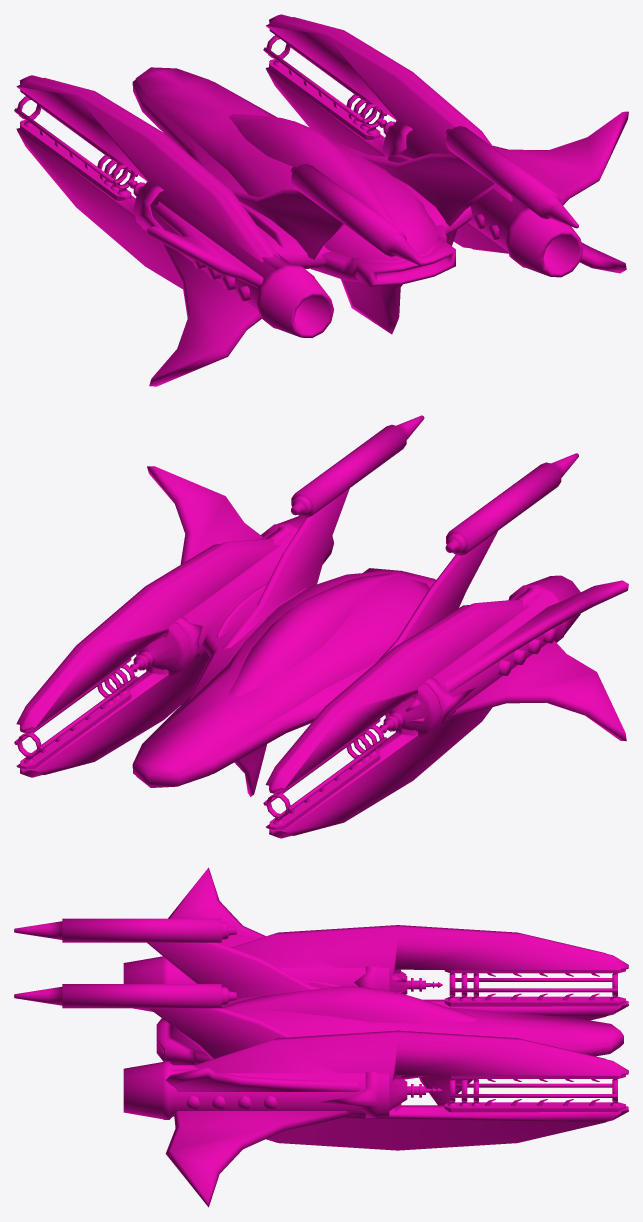
Rendered from AlienStarfighterTest.fbx.
3 renders of one model, top to bottom at view 1: azimuth 30°, elevation 25°; view 2: azimuth 150°, elevation 25°; view 3: azimuth 270°, elevation 25°, orthographic. The views are drawn at different scales.
Parts seen in each view (by area): view 1: Cube.033; view 2: Cube.033; view 3: Cube.033.
Boxes of the visible parts, bbox=[...] form: Cube.033: bbox=[14, 14, 628, 386]; Cube.033: bbox=[14, 415, 628, 838]; Cube.033: bbox=[14, 867, 628, 1207].
Bounding box in the file's own units: 619 × 234 × 787.
